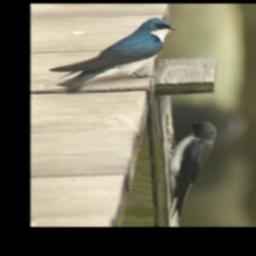Swallow: (49, 17, 176, 90)
